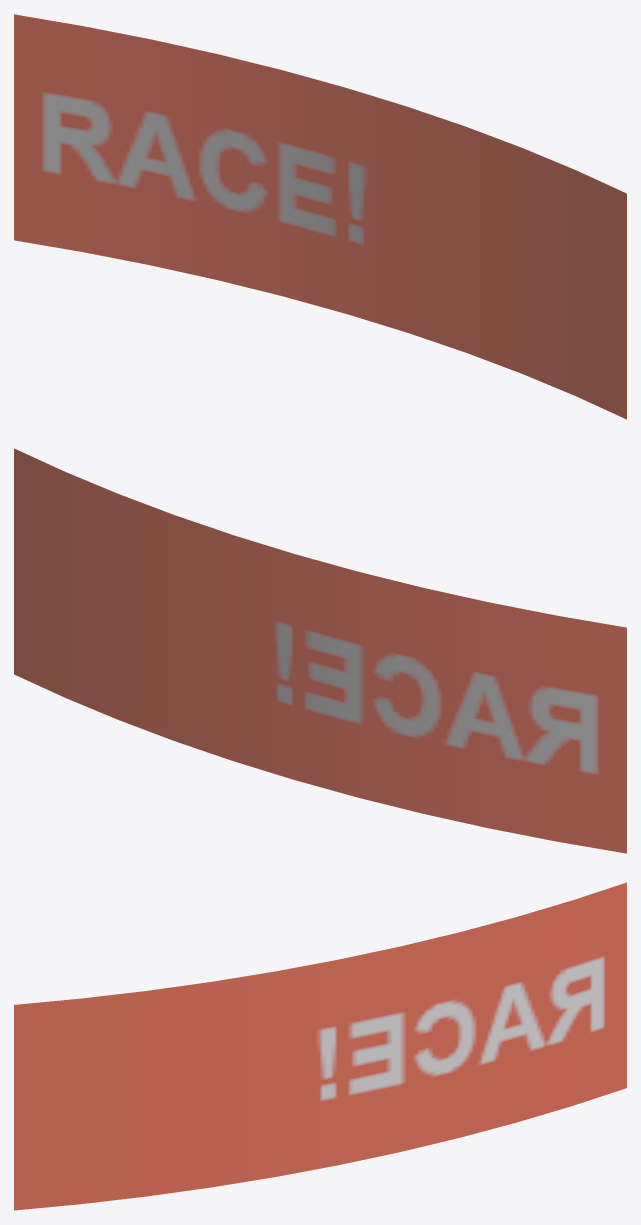
Rendered from race_selected.glb.
The picture shows the model from 3 angles, top to bottom: view 1: azimuth 30°, elevation 25°; view 2: azimuth 210°, elevation 25°; view 3: azimuth 270°, elevation 25°; orthographic projection. The views are drawn at different scales.
Parts seen in each view (by area): view 1: race_selected; view 2: race_selected; view 3: race_selected.
Part boxes in pixels (x1=…): race_selected: x1=14, y1=14, x2=626, y2=419; race_selected: x1=14, y1=448, x2=626, y2=853; race_selected: x1=14, y1=882, x2=626, y2=1210.
Bounding box in the file's own units: 1.5 × 1.18 × 3.18.
1 material, 1 textured.
